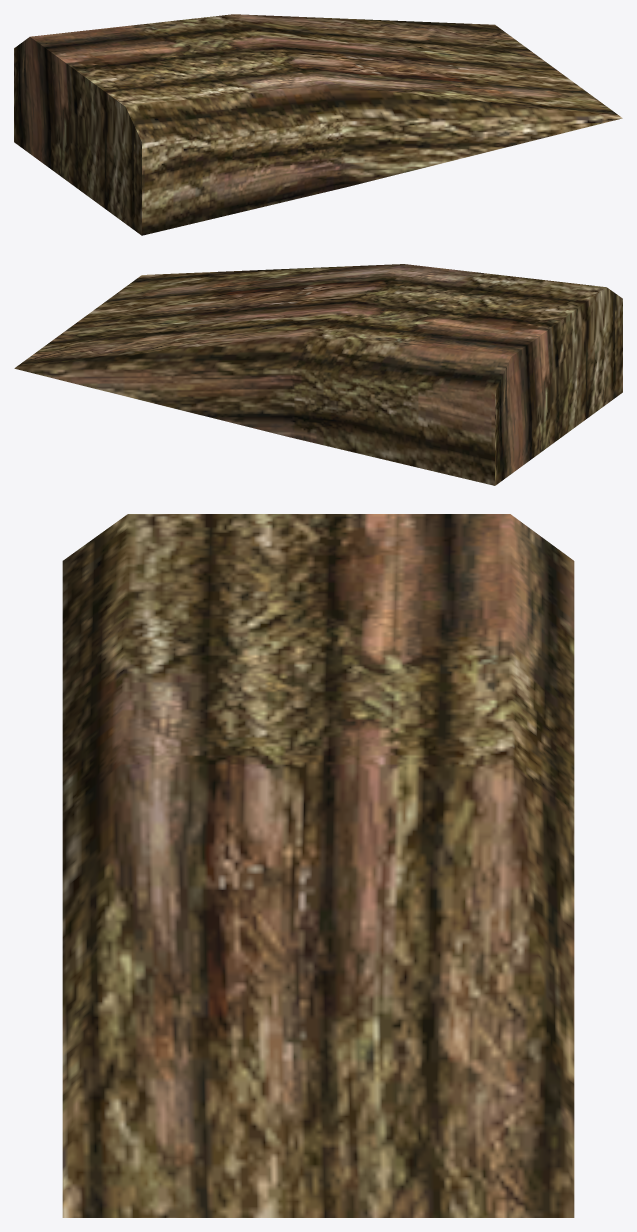
Rendered from hrz15.glb.
3 views of the same model, one above another, from view 1: azimuth 30°, elevation 25°; view 2: azimuth 150°, elevation 25°; view 3: azimuth 270°, elevation 25° (orthographic). The views are drawn at different scales.
Parts seen in each view (by area): view 1: hrz15-col; view 2: hrz15-col; view 3: hrz15-col.
Boxes of the visible parts, <box> form: hrz15-col: <box>14,14,622,235</box>; hrz15-col: <box>14,264,622,485</box>; hrz15-col: <box>62,514,574,1217</box>.
Bounding box in the file's own units: 4.3 × 1.01 × 1.98.
Materials: 1 (1 with a texture image).
